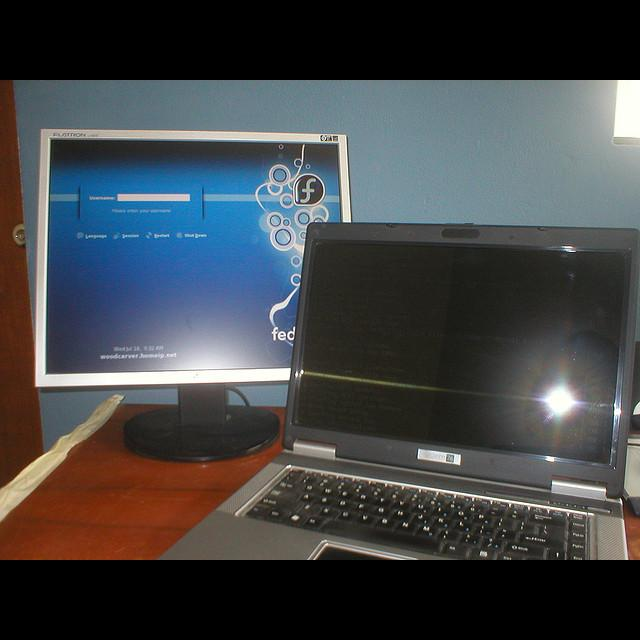Flat-Panel-Monitor: (34, 128, 352, 390)
Laptop: (168, 222, 640, 554)
